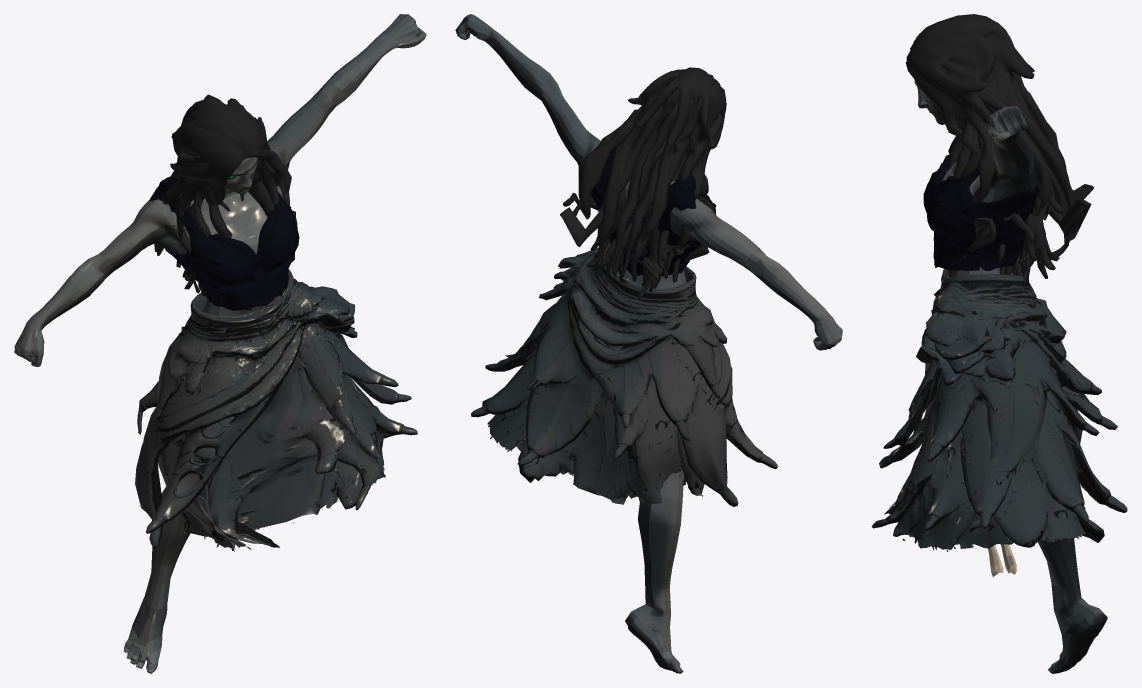
File: patasola.glb
The picture shows the model from 3 angles, left to right: view 1: azimuth 30°, elevation 25°; view 2: azimuth 150°, elevation 25°; view 3: azimuth 270°, elevation 25°; orthographic projection. The views are drawn at different scales.
Parts seen in each view (by area): view 1: Patasola_Falda_tarjeta, Patasola_Cuerpo_tarjeta, Patasola_Pelo_tarjeta, Patasola_Top_tarjeta; view 2: Patasola_Falda_tarjeta, Patasola_Pelo_tarjeta, Patasola_Cuerpo_tarjeta, Patasola_Top_tarjeta; view 3: Patasola_Falda_tarjeta, Patasola_Pelo_tarjeta, Patasola_Cuerpo_tarjeta, Patasola_Top_tarjeta.
Boxes of the visible parts, box(x1,y1,x2,y2) form: Patasola_Falda_tarjeta: box(135, 269, 417, 551); Patasola_Cuerpo_tarjeta: box(14, 14, 426, 673); Patasola_Pelo_tarjeta: box(154, 94, 297, 299); Patasola_Top_tarjeta: box(149, 176, 299, 310); Patasola_Falda_tarjeta: box(471, 242, 777, 506); Patasola_Pelo_tarjeta: box(560, 67, 726, 299); Patasola_Cuerpo_tarjeta: box(455, 14, 842, 673); Patasola_Top_tarjeta: box(590, 148, 716, 276); Patasola_Falda_tarjeta: box(871, 265, 1127, 551); Patasola_Pelo_tarjeta: box(906, 14, 1093, 285); Patasola_Cuerpo_tarjeta: box(914, 80, 1107, 673); Patasola_Top_tarjeta: box(923, 155, 1039, 270).
Size of the model in its own units: 0.8798 by 1.28 by 0.4252.
4 materials, 4 textured.
